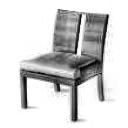chair_success: (13, 1, 114, 121)
